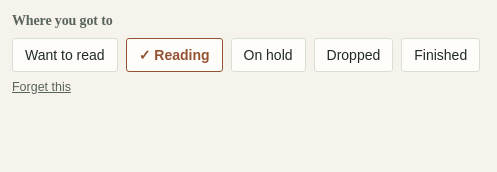
Test: ReadingStatusControl › reports a failed write and puts the previous state back
The image size is (497, 172).
Click the button "Finished" at coordinates (441, 54), box [401, 38, 480, 72]
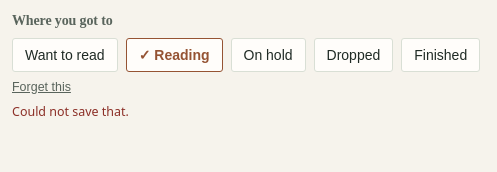
Expected: the message reads "Could not save that.", [12, 102, 129, 120]
